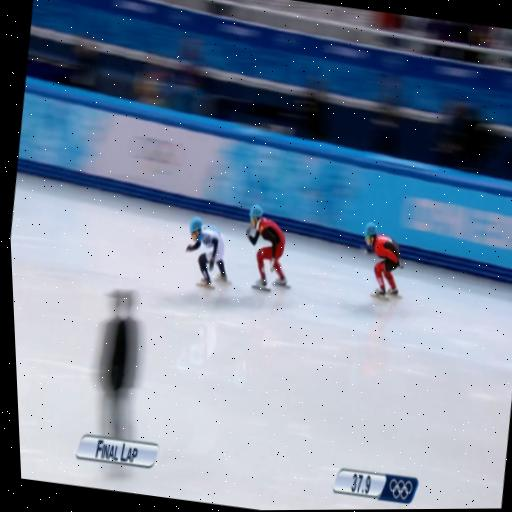Skater: (247, 205, 290, 290), (187, 218, 230, 288), (365, 222, 403, 299)
